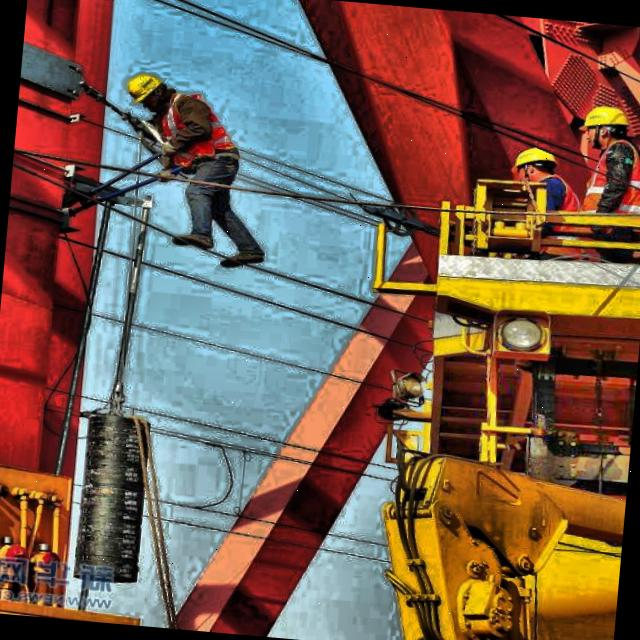helmet: (572, 100, 634, 156), (115, 65, 180, 116), (508, 138, 566, 188)
